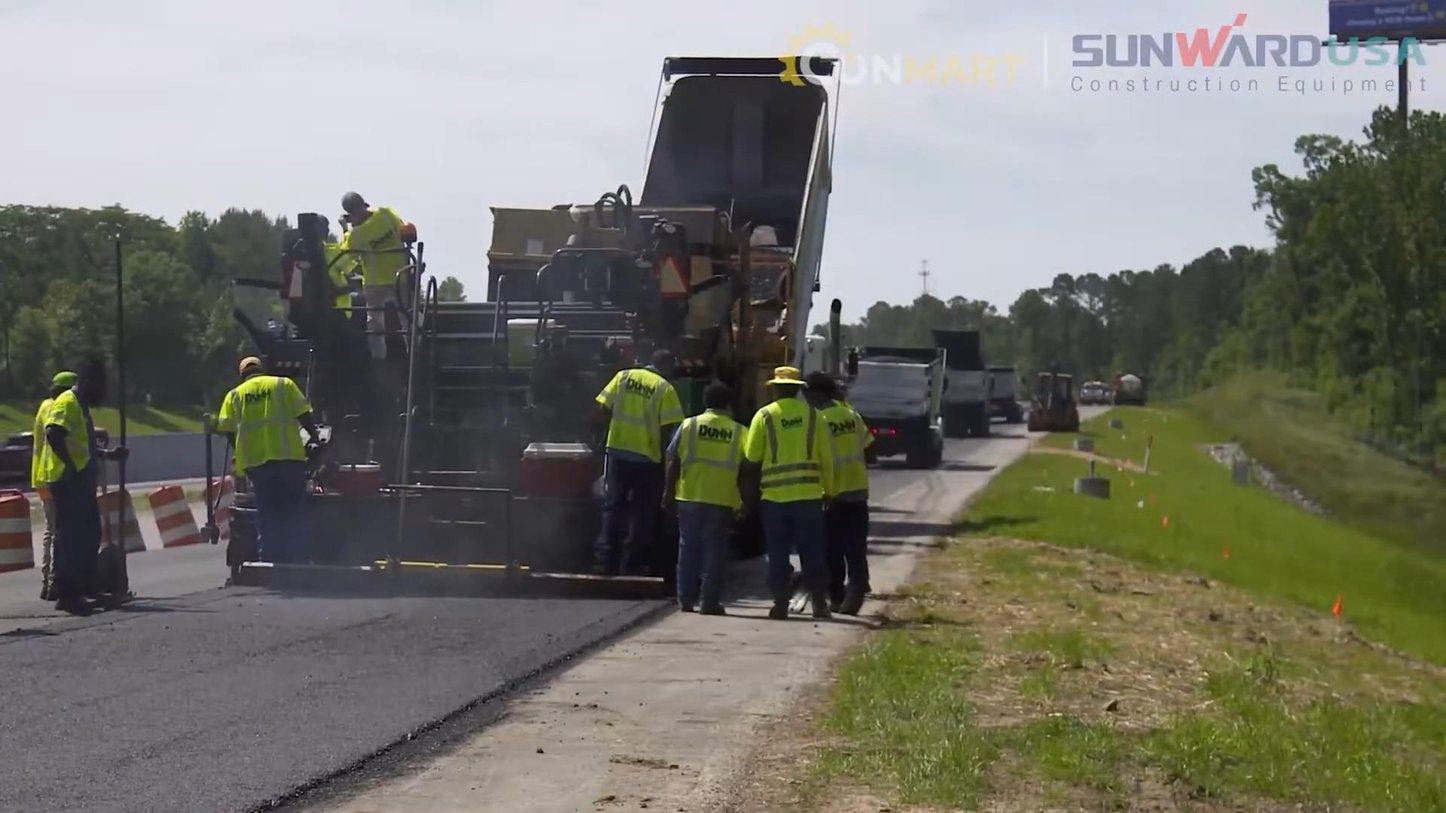Helmet: (644, 348, 676, 380), (341, 190, 372, 211), (47, 371, 77, 388)
Person: (747, 358, 831, 629), (213, 355, 320, 565), (604, 339, 680, 606), (809, 365, 884, 621), (35, 368, 105, 615), (676, 370, 743, 625), (340, 190, 416, 361)
Safety Boot: (57, 595, 105, 613), (838, 585, 862, 616), (38, 582, 63, 602), (808, 605, 834, 621), (767, 602, 787, 621), (702, 605, 726, 619), (679, 601, 692, 613)
Safety Vest: (233, 387, 307, 472), (759, 411, 826, 500), (677, 423, 749, 501), (606, 380, 665, 458), (826, 410, 863, 499), (54, 407, 100, 473), (360, 216, 406, 278), (30, 410, 54, 481)
no-helmet: (766, 364, 809, 395), (74, 361, 107, 385), (703, 378, 726, 397), (238, 354, 264, 369), (815, 375, 838, 391)
